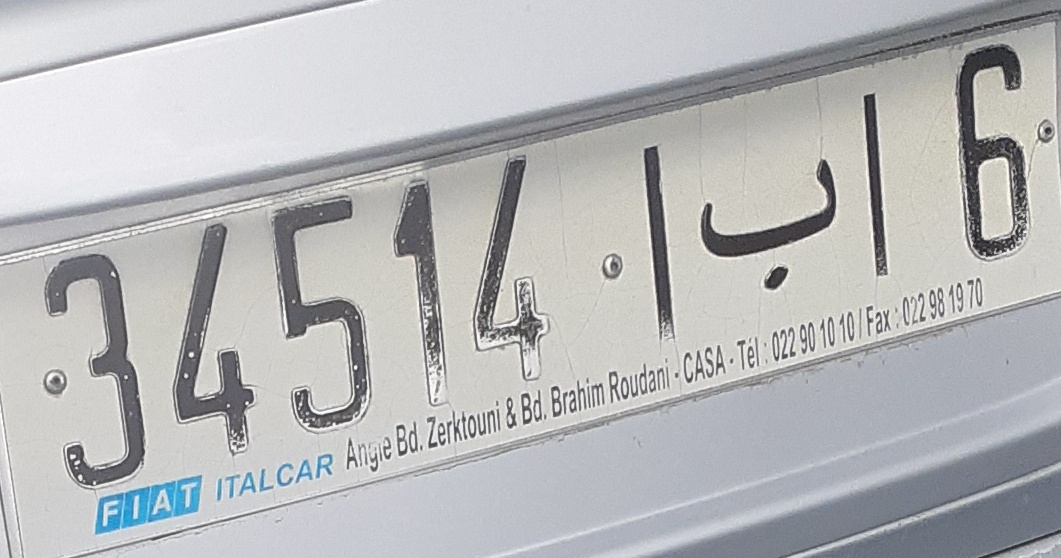1: (384, 168, 458, 412)
3: (38, 243, 150, 499)
4: (164, 218, 263, 460), (467, 156, 557, 383)
5: (264, 193, 380, 439)
6: (950, 43, 1035, 263)
b: (693, 155, 841, 293)
